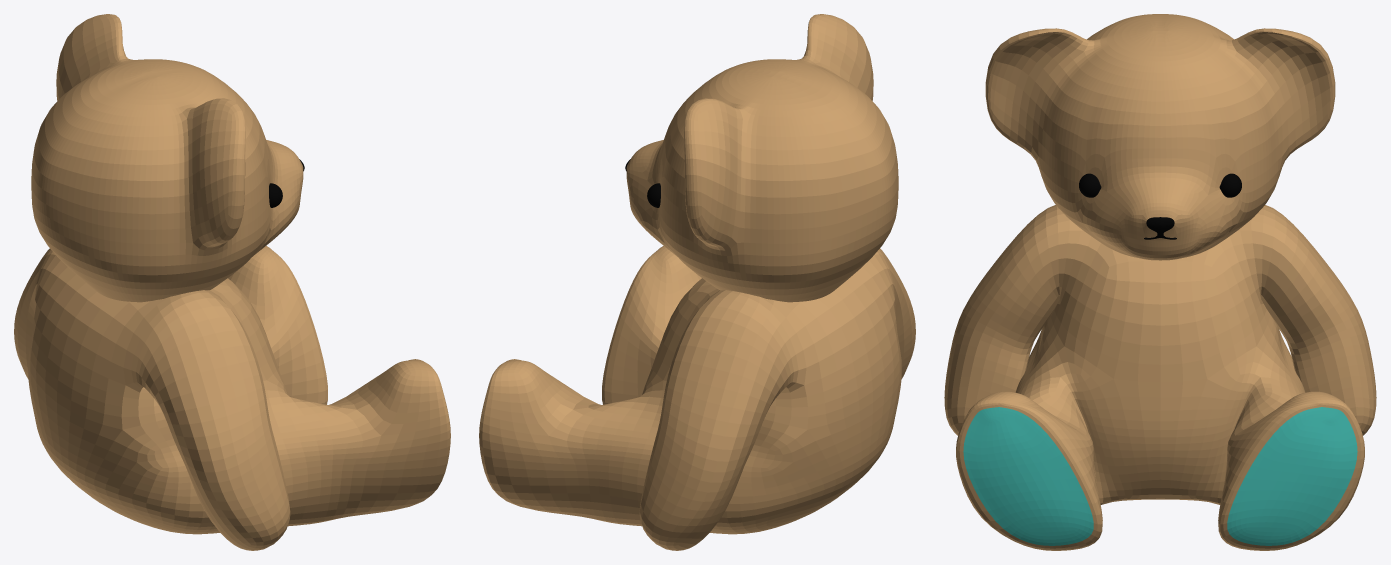
The model's file is Low Poly Bear With Broken Ear1.fbx.
3 views of the same model, side by side, from view 1: azimuth 30°, elevation 25°; view 2: azimuth 150°, elevation 25°; view 3: azimuth 270°, elevation 25° (orthographic).
Visible parts, largest first — view 1: Bear Final.017, Bear Final.018; view 2: Bear Final.017, Bear Final.018; view 3: Bear Final.017, Bear Final.018, Sphere.016.
Part boxes in pixels (x1,y1,x2,y2): Bear Final.017: (14, 14, 450, 550); Bear Final.018: (187, 98, 245, 250); Bear Final.017: (479, 55, 915, 550); Bear Final.018: (804, 14, 873, 100); Bear Final.017: (944, 14, 1376, 550); Bear Final.018: (985, 28, 1088, 160); Sphere.016: (1079, 173, 1241, 197).
Bounding box in the file's own units: 69.56 × 92.56 × 81.9.
